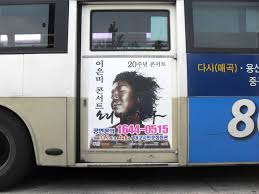out: (63, 3, 192, 177)
